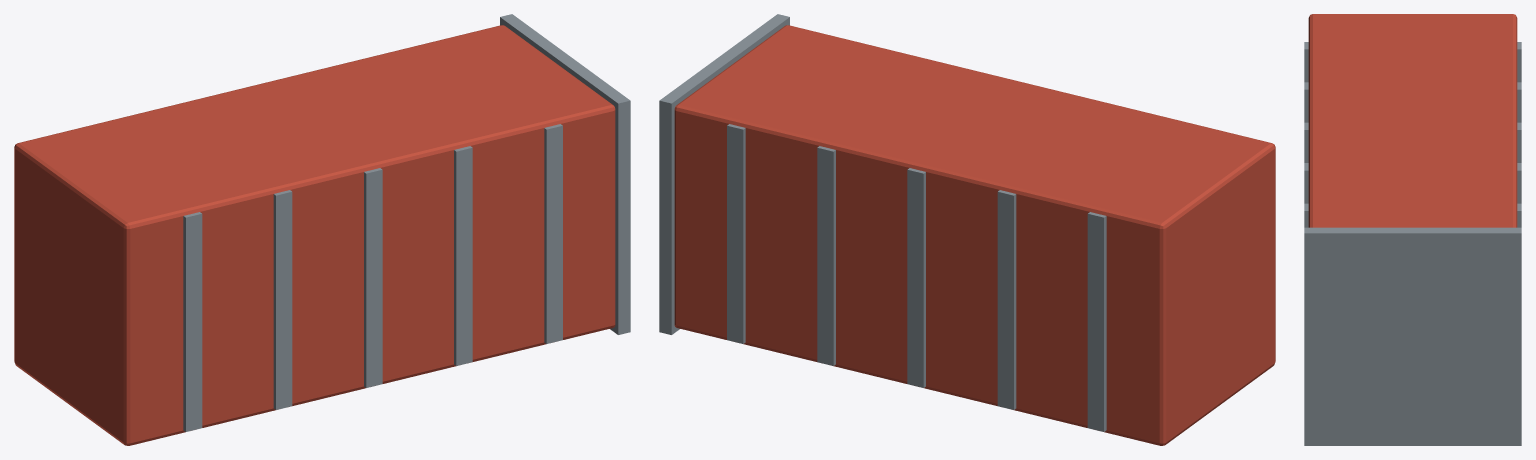
Rendered from container_0.glb.
The picture shows the model from 3 angles, left to right: view 1: azimuth 30°, elevation 25°; view 2: azimuth 150°, elevation 25°; view 3: azimuth 270°, elevation 25°; orthographic projection. The views are drawn at different scales.
Visible parts, largest first — view 1: Cube; view 2: Cube; view 3: Cube.
Part boxes in pixels (left/top/right/bottom): Cube: left=14, top=14, right=630, bottom=445; Cube: left=659, top=14, right=1275, bottom=445; Cube: left=1304, top=14, right=1521, bottom=445.
Size of the model in its own units: 6.12 by 2.7 by 2.5.
